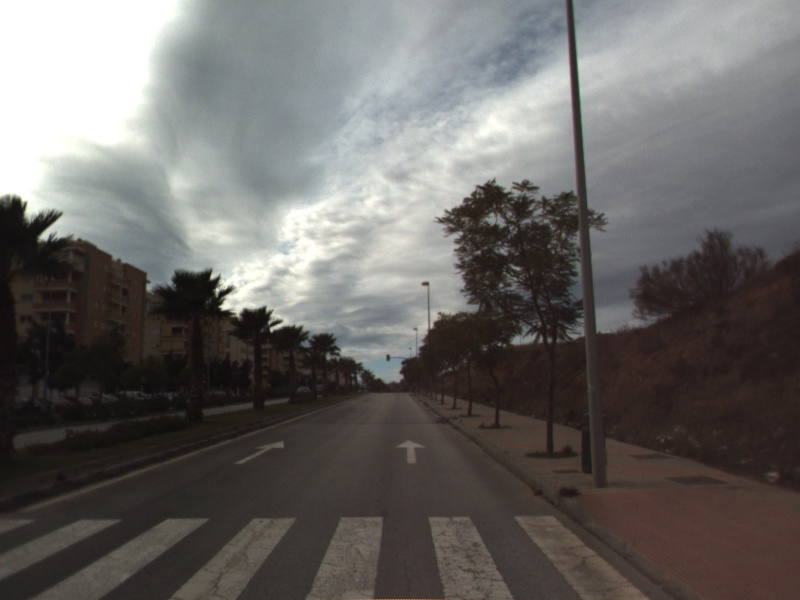STRAIGHT: (231, 439, 285, 466), (393, 438, 428, 465)
